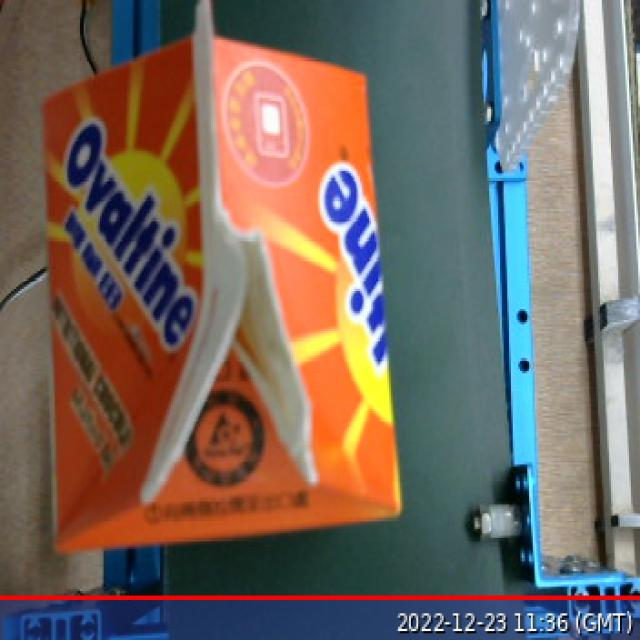non_white_jug: (32, 10, 408, 568)
